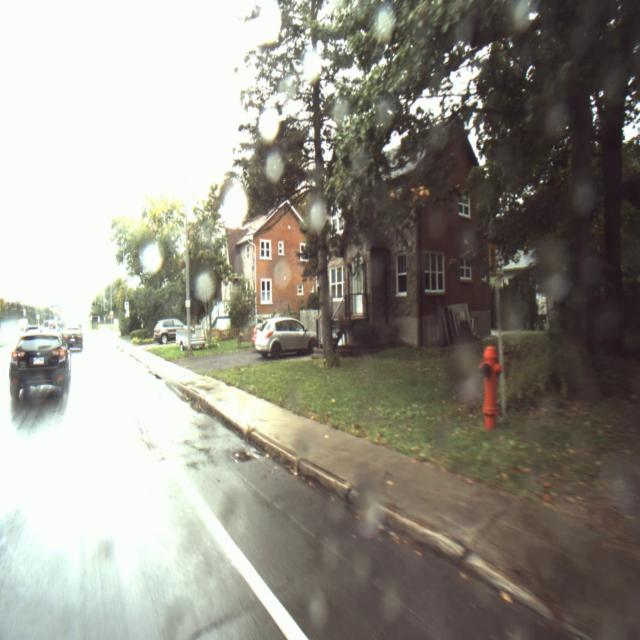car: (8, 328, 70, 401), (256, 316, 317, 359), (154, 317, 185, 346), (61, 325, 83, 355)
